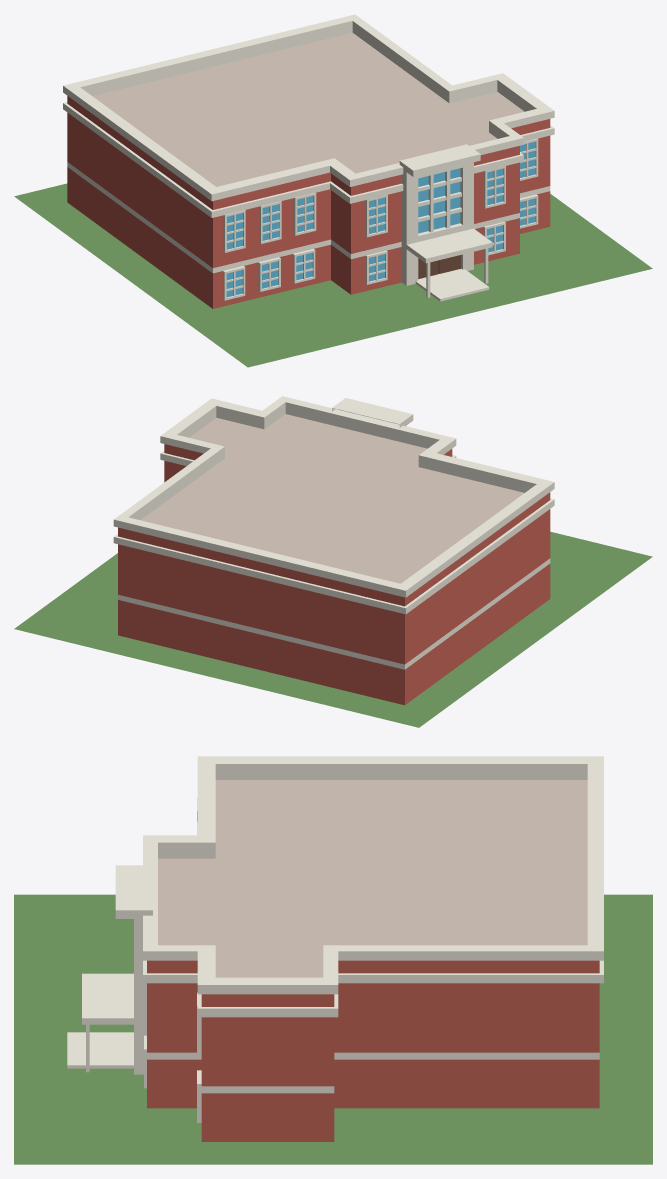
Rendered from mHouse4.fbx.
3 renders of one model, top to bottom at view 1: azimuth 30°, elevation 25°; view 2: azimuth 150°, elevation 25°; view 3: azimuth 270°, elevation 25°, orthographic. The views are drawn at different scales.
Parts seen in each view (by area): view 1: pCube2, pPlane1, pCube3, pCube9, pCube1, polySurface4, polySurface5, polySurface6, polySurface7, polySurface8, pCube18, pCube19 (+6 smaller); view 2: pCube2, pPlane1, pCube3; view 3: pCube2, pPlane1, pCube3, pCube9, pCube1.
Part boxes in pixels (box(x1,y1,x2,y2)): pCube2: box(63, 14, 554, 308); pPlane1: box(14, 183, 652, 367); pCube3: box(399, 144, 480, 285); pCube9: box(406, 228, 492, 263); pCube1: box(415, 268, 489, 301); polySurface4: box(293, 193, 316, 235); polySurface5: box(259, 201, 281, 243); polySurface6: box(223, 210, 245, 252); polySurface7: box(365, 194, 387, 237); polySurface8: box(484, 166, 505, 208); pCube18: box(293, 249, 315, 283); pCube19: box(258, 257, 280, 291); pCube2: box(113, 396, 554, 705); pPlane1: box(14, 531, 652, 727); pCube3: box(332, 398, 413, 427); pCube2: box(143, 756, 603, 1141); pPlane1: box(14, 894, 652, 1164); pCube3: box(115, 865, 152, 1074); pCube9: box(82, 973, 133, 1024); pCube1: box(67, 1032, 133, 1068).
Bounding box in the file's own units: 24 × 6.83 × 24.
1 material, 1 textured.
